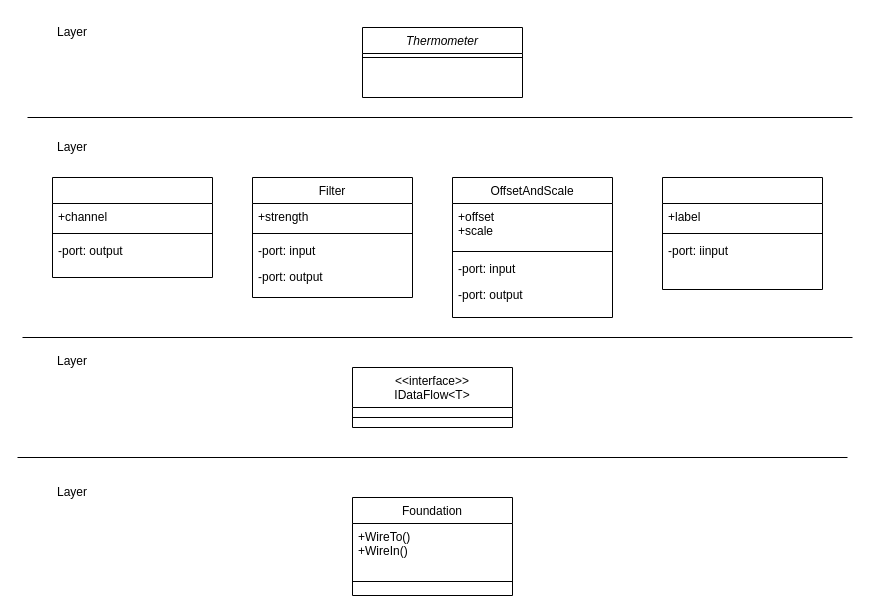
The diagram is 871 pixels wide and 613 high, and some of its shapes have lost their labels. Here are the shapes that lost their labels. From the top down, the box of each, then its label:
(52, 176, 212, 278): AnalogInput
(662, 176, 822, 290): Display
